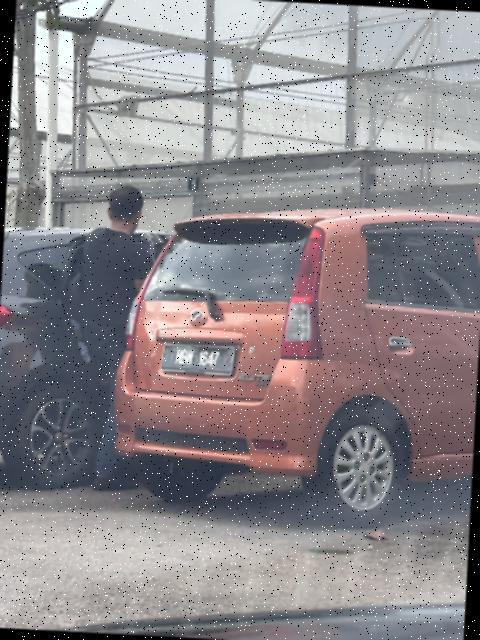License_Plate: (159, 346, 239, 380)
MBW1647: (159, 346, 239, 380)
car: (103, 204, 480, 532)
